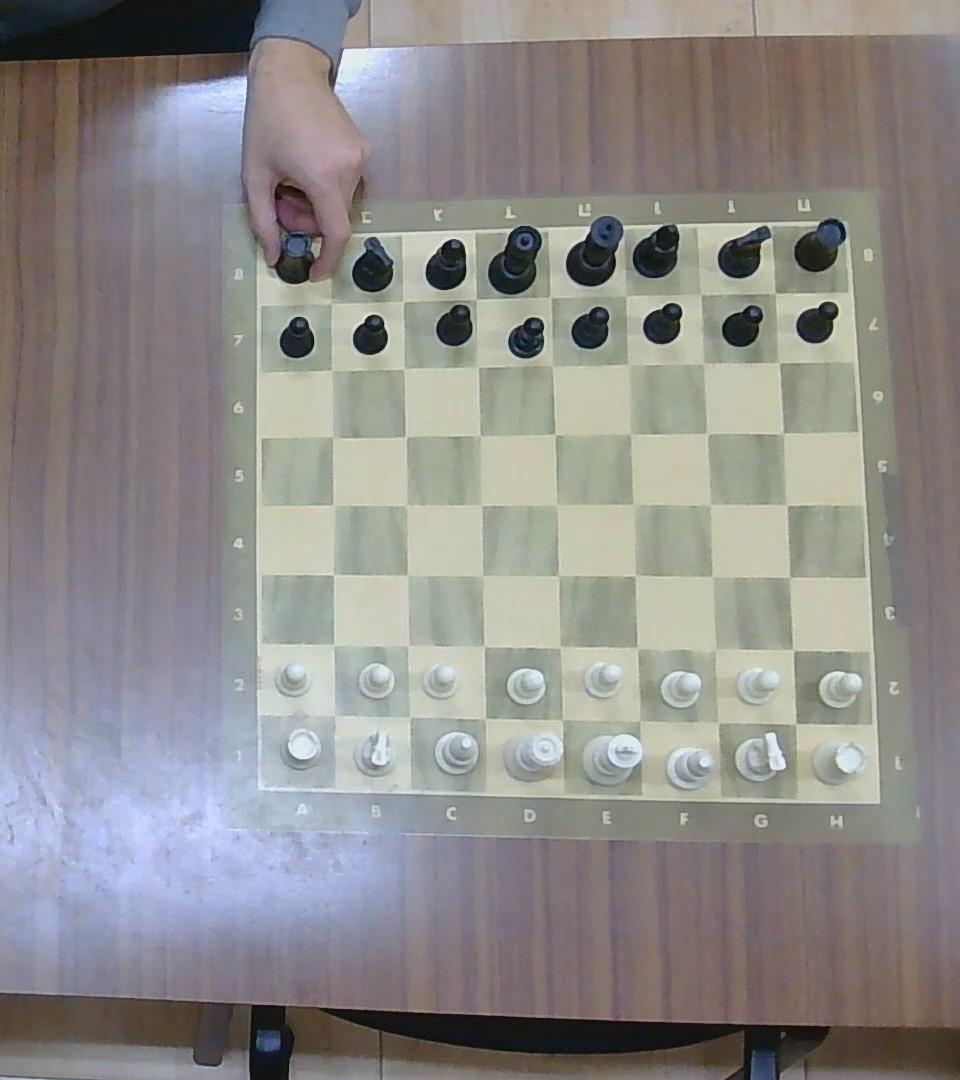xcorner: (777, 705, 811, 739), (619, 631, 653, 664), (701, 705, 734, 738), (621, 702, 654, 735), (468, 701, 501, 733), (545, 702, 578, 734), (543, 630, 575, 662), (698, 633, 730, 665), (318, 699, 349, 731), (393, 699, 423, 731), (392, 629, 423, 659), (468, 631, 499, 661), (774, 561, 804, 592), (776, 634, 807, 664), (697, 560, 728, 590), (620, 560, 650, 590), (543, 560, 573, 590), (317, 629, 347, 659), (467, 560, 496, 590), (393, 560, 422, 590), (319, 558, 348, 588), (542, 488, 572, 517), (619, 488, 649, 517), (460, 284, 489, 313), (319, 488, 348, 517), (535, 284, 565, 312), (317, 287, 345, 316), (611, 280, 639, 309), (615, 419, 644, 447), (537, 350, 566, 378), (467, 490, 495, 518), (767, 418, 796, 445), (317, 420, 345, 447), (392, 489, 420, 516), (317, 354, 345, 381), (695, 489, 723, 516), (540, 420, 568, 447), (693, 418, 721, 445), (614, 350, 642, 377), (772, 491, 801, 517), (464, 352, 491, 379), (389, 287, 416, 313), (688, 350, 716, 375), (392, 422, 418, 448), (688, 280, 714, 306), (761, 279, 788, 304), (390, 355, 415, 380), (466, 421, 491, 446), (766, 350, 791, 374)
